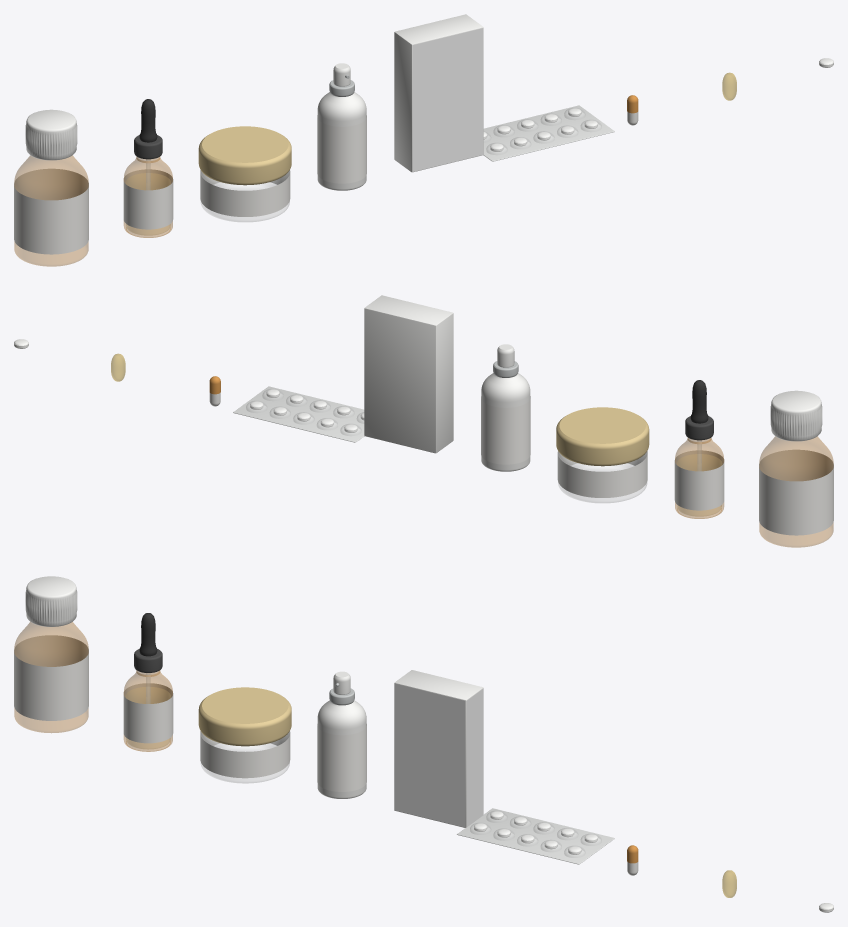
The model's file is pharmacy-kit.glb.
3 views of the same model, one above another, from view 1: azimuth 30°, elevation 25°; view 2: azimuth 150°, elevation 25°; view 3: azimuth 330°, elevation 25° (orthographic).
Parts seen in each view (by area): view 1: CartonFront, Label, JarLid, CartonBox, Bottle, BlisterFoil, Label.003, Label.001, Label.002, Cap, SprayBottle, DropperBottle (+4 smaller); view 2: CartonBox, Label, JarLid, Bottle, BlisterFoil, Label.003, Label.001, Label.002, Cap, SprayBottle, DropperBottle, JarBody (+3 smaller); view 3: CartonFront, Label, JarLid, BlisterFoil, Bottle, Label.003, Label.001, Label.002, Cap, CartonSide, CartonBox, SprayBottle (+4 smaller).
Boxes of the visible parts, bbox=[...] form: CartonFront: bbox=[412, 28, 483, 171]; Label: bbox=[14, 168, 88, 254]; JarLid: bbox=[198, 126, 291, 185]; CartonBox: bbox=[394, 14, 483, 172]; Bottle: bbox=[14, 155, 88, 266]; BlisterFoil: bbox=[483, 105, 614, 161]; Label.003: bbox=[317, 115, 366, 183]; Label.001: bbox=[123, 169, 173, 229]; Label.002: bbox=[200, 170, 290, 216]; Cap: bbox=[25, 109, 77, 160]; SprayBottle: bbox=[317, 92, 366, 190]; DropperBottle: bbox=[124, 156, 172, 237]; CartonBox: bbox=[364, 295, 453, 453]; Label: bbox=[759, 449, 833, 535]; JarLid: bbox=[556, 407, 649, 466]; Bottle: bbox=[759, 436, 833, 547]; BlisterFoil: bbox=[233, 386, 364, 442]; Label.003: bbox=[481, 396, 530, 464]; Label.001: bbox=[674, 450, 724, 510]; Label.002: bbox=[557, 451, 647, 497]; Cap: bbox=[770, 390, 822, 441]; SprayBottle: bbox=[481, 373, 530, 471]; DropperBottle: bbox=[675, 437, 723, 518]; JarBody: bbox=[558, 451, 646, 502]; CartonFront: bbox=[394, 683, 465, 827]; Label: bbox=[14, 635, 88, 720]; JarLid: bbox=[198, 687, 291, 746]; BlisterFoil: bbox=[457, 808, 614, 864]; Bottle: bbox=[14, 622, 88, 732]; Label.003: bbox=[317, 724, 366, 791]; Label.001: bbox=[123, 683, 173, 743]; Label.002: bbox=[200, 731, 290, 778]; Cap: bbox=[25, 576, 77, 626]; CartonSide: bbox=[466, 688, 483, 826]; CartonBox: bbox=[394, 670, 483, 827]; SprayBottle: bbox=[317, 700, 366, 798].
Size of the model in its own units: 6.3 by 1.09 by 0.624.
